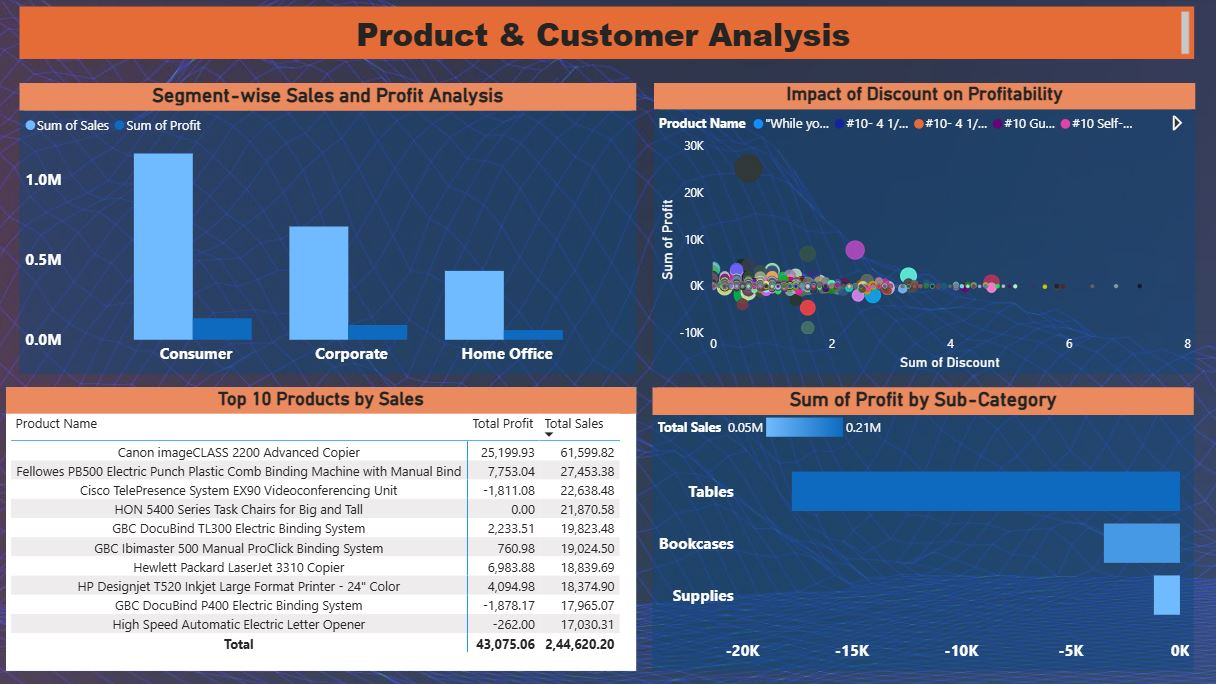

This screenshot's page, from the dashboard's own definition file:
{"tool":"powerbi","page":{"name":"Product & Customer Analysis","canvas":[1280,720],"ordinal":2},"visuals":[{"type":"pivotTable","title":"Top 10 Products by Sales","fields":{"Rows":["superstore_cleaned.Product Name"],"Values":["superstore_cleaned.Total Profit","superstore_cleaned.Total Sales"]},"box":[15.6,407.9,656.5,295.4],"z":0},{"type":"clusteredBarChart","fields":{"Category":["superstore_cleaned.Sub-Category"],"Y":["Sum(superstore_cleaned.Profit)"]},"box":[689.3,407.9,564.2,295.4],"z":1000},{"type":"clusteredColumnChart","title":"Segment-wise Sales and Profit Analysis","fields":{"Category":["superstore_cleaned.Segment"],"Y":["Sum(superstore_cleaned.Sales)","Sum(superstore_cleaned.Profit)"]},"box":[29.7,90.7,642.4,303.2],"z":2000},{"type":"scatterChart","title":"Impact of Discount on Profitability","fields":{"X":["Sum(superstore_cleaned.Discount)"],"Y":["Sum(superstore_cleaned.Profit)"],"Size":["Sum(superstore_cleaned.Sales)"],"Series":["superstore_cleaned.Product Name"]},"box":[690.8,90.7,564.2,303.2],"z":3000},{"type":"textbox","box":[29.7,10.9,1223.8,54.7],"z":3001}]}

Visuals, with their boxes in screenshot pixels (x1, y1, x2, y2), scaled from the page's 1280x720 canvas onto the 1216x684 screenshot:
"Top 10 Products by Sales" pivotTable: bbox=(15, 388, 638, 668)
clusteredBarChart - superstore_cleaned.Sub-Category x Sum(superstore_cleaned.Profit): bbox=(655, 388, 1191, 668)
"Segment-wise Sales and Profit Analysis" clusteredColumnChart: bbox=(28, 86, 638, 374)
"Impact of Discount on Profitability" scatterChart: bbox=(656, 86, 1192, 374)
textbox: bbox=(28, 10, 1191, 62)
